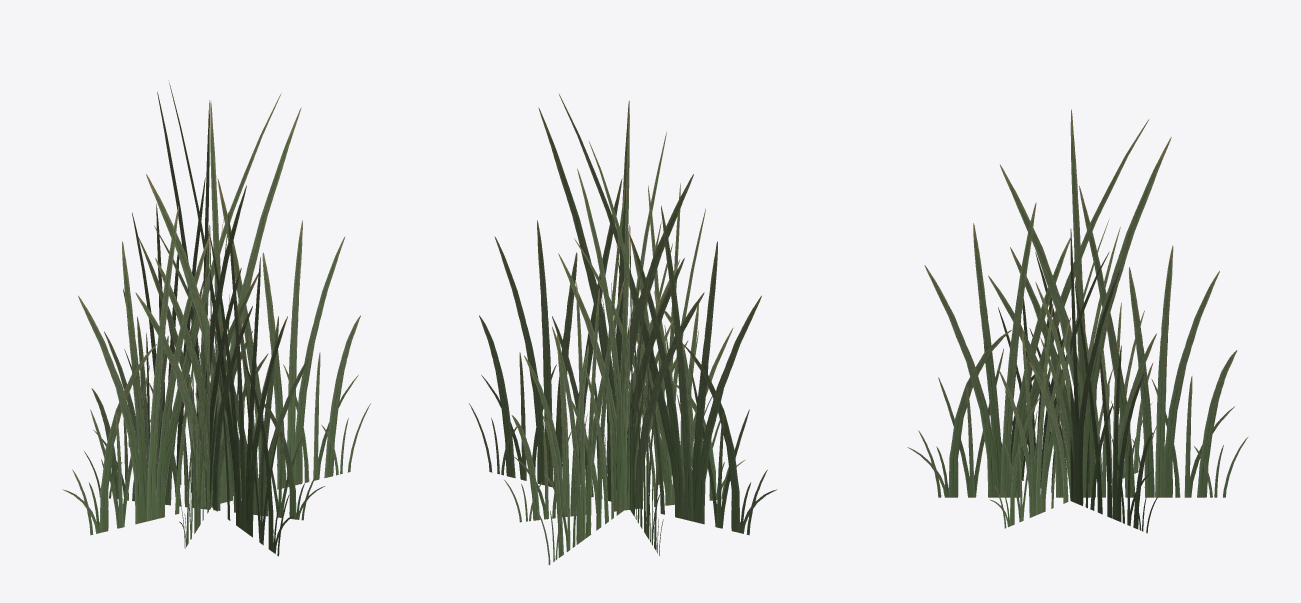
Rendered from grass.fbx.
The picture shows the model from 3 angles, left to right: view 1: azimuth 30°, elevation 25°; view 2: azimuth 150°, elevation 25°; view 3: azimuth 270°, elevation 25°; orthographic projection. The views are drawn at different scales.
Visible parts, largest first — view 1: Plant_Grass_2.001; view 2: Plant_Grass_2.001; view 3: Plant_Grass_2.001.
Part boxes in pixels (x1,y1,x2,y2): Plant_Grass_2.001: (62, 80, 370, 556); Plant_Grass_2.001: (469, 93, 777, 565); Plant_Grass_2.001: (907, 109, 1248, 533).
Bounding box in the file's own units: 0.999 × 0.999 × 1.01.
Materials: 1 (1 with a texture image).
